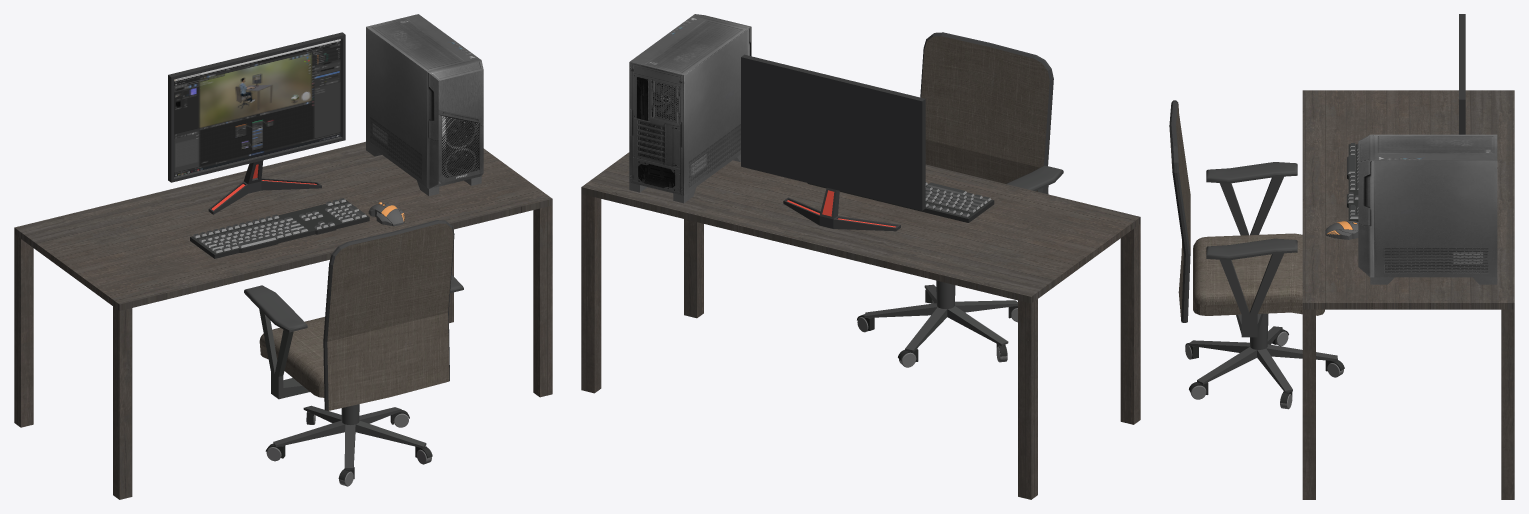
File: hero_computer3.glb
3 renders of one model, left to right at view 1: azimuth 30°, elevation 25°; view 2: azimuth 150°, elevation 25°; view 3: azimuth 270°, elevation 25°, orthographic. The views are drawn at different scales.
Parts seen in each view (by area): view 1: TABLE_5, MONITOR_4, Cylinder.002_8, MONITOR.001_11, Cylinder.007_10, KEYBOARD_6, Cylinder.003_9, MOUSE_7; view 2: TABLE_5, MONITOR_4, MONITOR.001_11, Cylinder.002_8, Cylinder.007_10, KEYBOARD_6; view 3: TABLE_5, MONITOR.001_11, Cylinder.007_10, Cylinder.003_9, Cylinder.002_8, KEYBOARD_6, MONITOR_4, MOUSE_7.
Boxes of the visible parts, <box> form: TABLE_5: <box>14,141,552,499</box>; MONITOR_4: <box>168,32,345,214</box>; Cylinder.002_8: <box>323,220,454,410</box>; MONITOR.001_11: <box>366,14,483,196</box>; Cylinder.007_10: <box>244,275,463,486</box>; KEYBOARD_6: <box>190,198,369,258</box>; Cylinder.003_9: <box>259,317,324,397</box>; MOUSE_7: <box>368,202,404,226</box>; TABLE_5: <box>581,152,1140,499</box>; MONITOR_4: <box>741,54,925,231</box>; MONITOR.001_11: <box>629,14,751,203</box>; Cylinder.002_8: <box>920,32,1053,194</box>; Cylinder.007_10: <box>857,165,1063,367</box>; KEYBOARD_6: <box>807,182,994,222</box>; TABLE_5: <box>1302,90,1514,499</box>; MONITOR.001_11: <box>1358,134,1497,284</box>; Cylinder.007_10: <box>1185,162,1344,409</box>; Cylinder.003_9: <box>1193,233,1324,315</box>; Cylinder.002_8: <box>1169,100,1190,322</box>; KEYBOARD_6: <box>1347,143,1358,221</box>; MONITOR_4: <box>1459,14,1465,134</box>; MOUSE_7: <box>1325,221,1358,239</box>.
Bounding box in the file's own units: 2.16 × 1.59 × 1.48.
5 materials, 5 textured.
